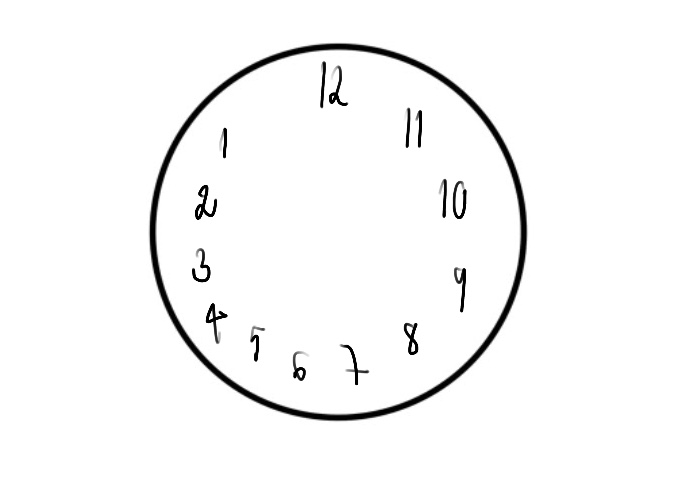eight: (399, 319, 423, 356)
eleven: (396, 100, 431, 152)
five: (245, 319, 264, 364)
four: (201, 296, 228, 346)
nine: (450, 265, 472, 321)
one: (216, 121, 233, 162)
seven: (338, 337, 372, 390)
six: (287, 347, 310, 383)
ten: (435, 178, 472, 227)
three: (189, 249, 214, 286)
twelve: (313, 56, 352, 110)
two: (190, 183, 219, 221)
